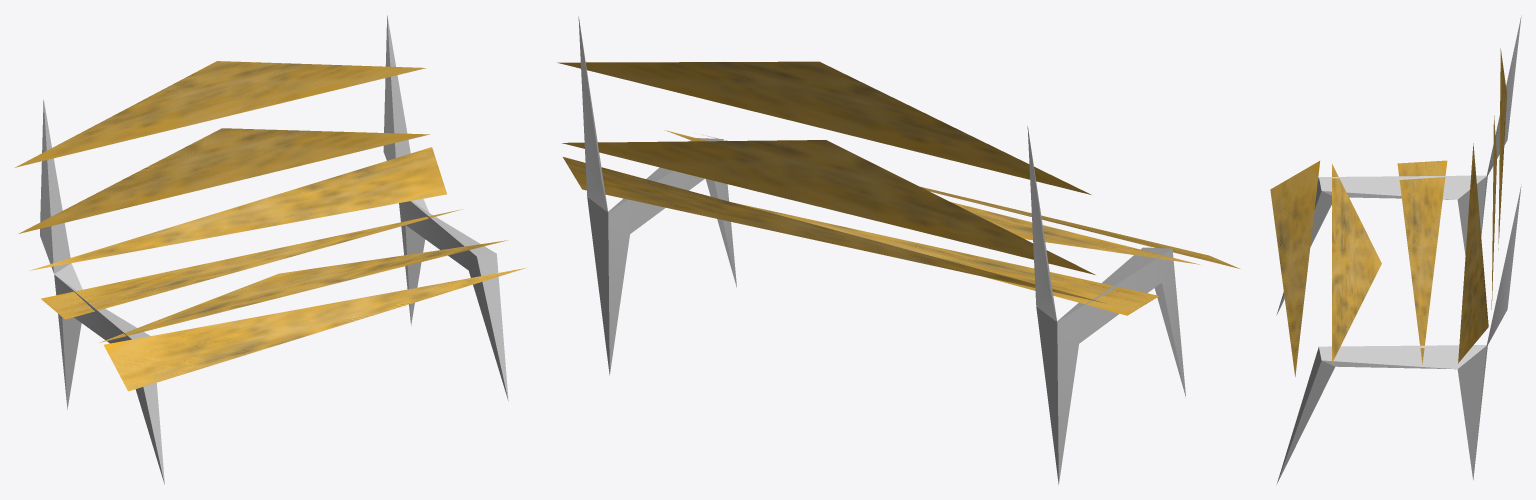
The model's file is BancoMadeiraLOD2.fbx.
3 views of the same model, side by side, from view 1: azimuth 30°, elevation 25°; view 2: azimuth 150°, elevation 25°; view 3: azimuth 270°, elevation 25° (orthographic). The views are drawn at different scales.
Parts seen in each view (by area): view 1: CadeiraLOD2; view 2: CadeiraLOD2; view 3: CadeiraLOD2.
Boxes of the visible parts, left/top/right/bottom form: CadeiraLOD2: left=15, top=15, right=525, bottom=484; CadeiraLOD2: left=557, top=16, right=1239, bottom=485; CadeiraLOD2: left=1270, top=15, right=1521, bottom=484.
Bounding box in the file's own units: 105 × 73.23 × 54.87.
